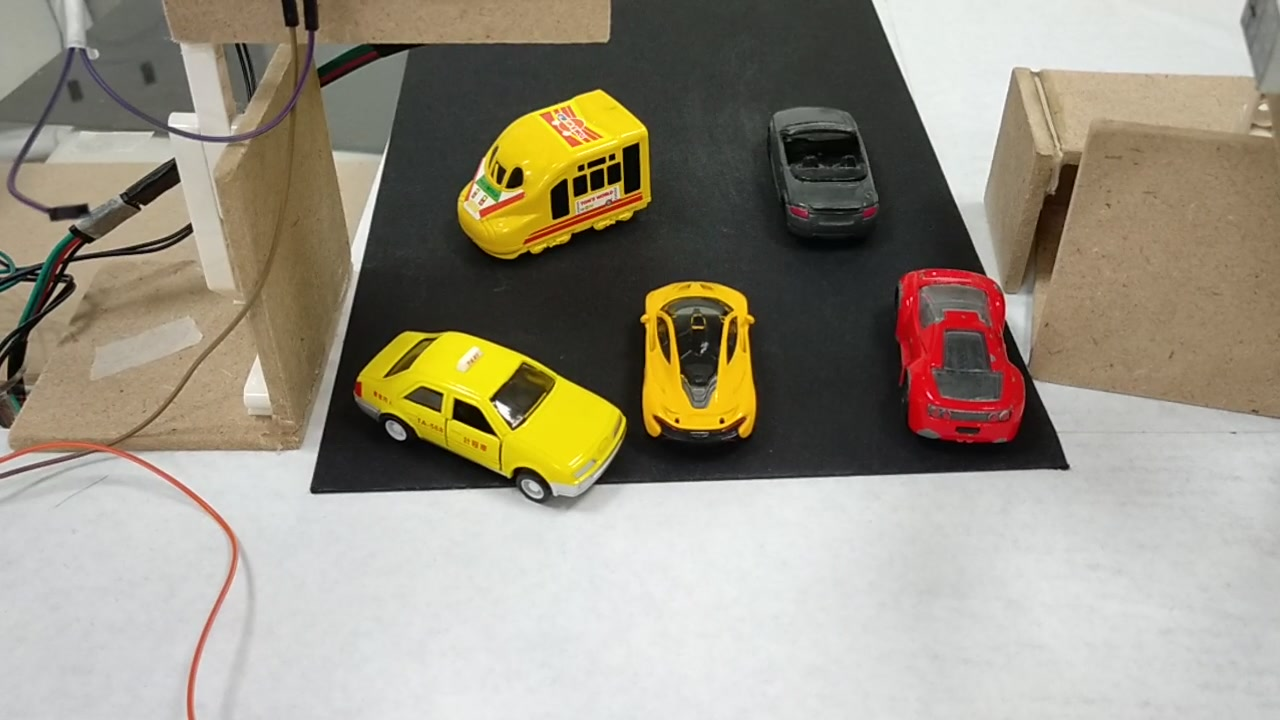car: (348, 320, 626, 514), (893, 265, 1020, 453), (634, 280, 752, 447), (759, 103, 878, 241)
